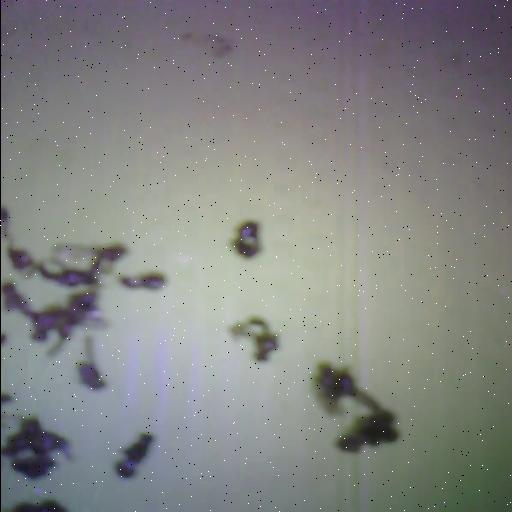Insects: (21, 292, 95, 355), (0, 417, 71, 479), (335, 409, 396, 453), (312, 362, 355, 412), (229, 318, 276, 362), (113, 434, 152, 478), (76, 335, 104, 390), (36, 264, 95, 286), (229, 221, 260, 259), (11, 456, 53, 479), (0, 282, 28, 312), (92, 244, 125, 267), (118, 273, 164, 289), (67, 292, 95, 315)
dust: (6, 243, 32, 270)
